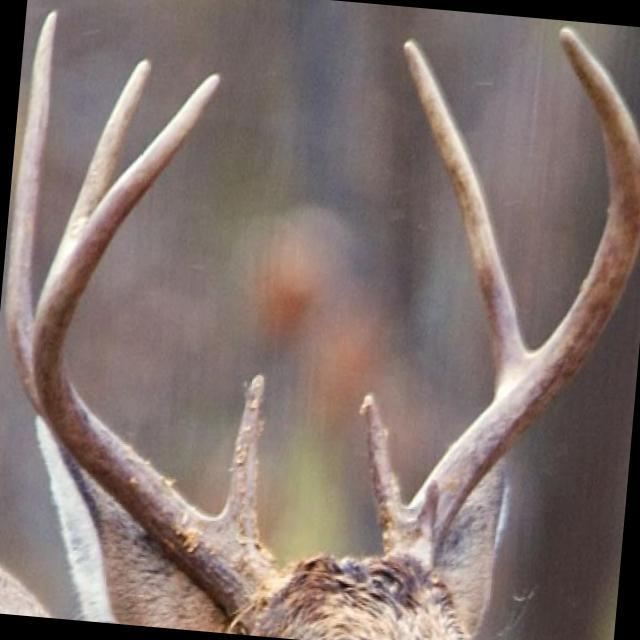L-F: (384, 23, 640, 574)
L-G1: (356, 391, 406, 538)
L-G2: (402, 37, 530, 386)
R-F: (32, 73, 281, 635)
R-G1: (218, 372, 266, 535)
R-G2: (3, 9, 58, 433)
R-G3: (67, 57, 150, 231)
